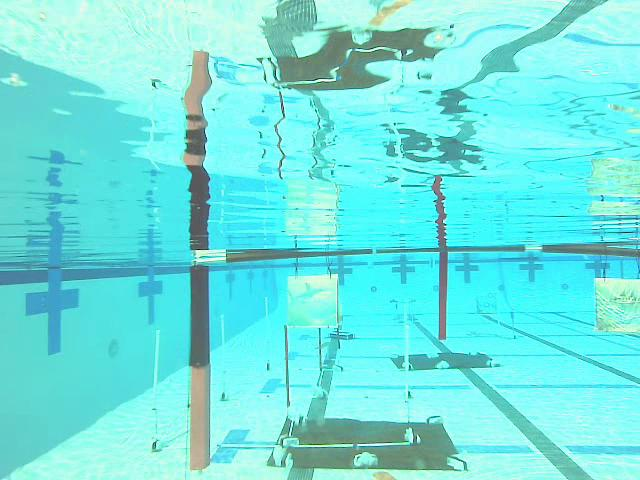black_poster: (283, 326, 291, 410), (318, 328, 322, 370)
divider: (439, 251, 446, 341)
left_gate_poster: (189, 265, 210, 469)
shark: (287, 274, 338, 326)
swordfish: (596, 278, 639, 333)
white_poster: (220, 315, 227, 401), (265, 297, 270, 371), (155, 331, 158, 448)
